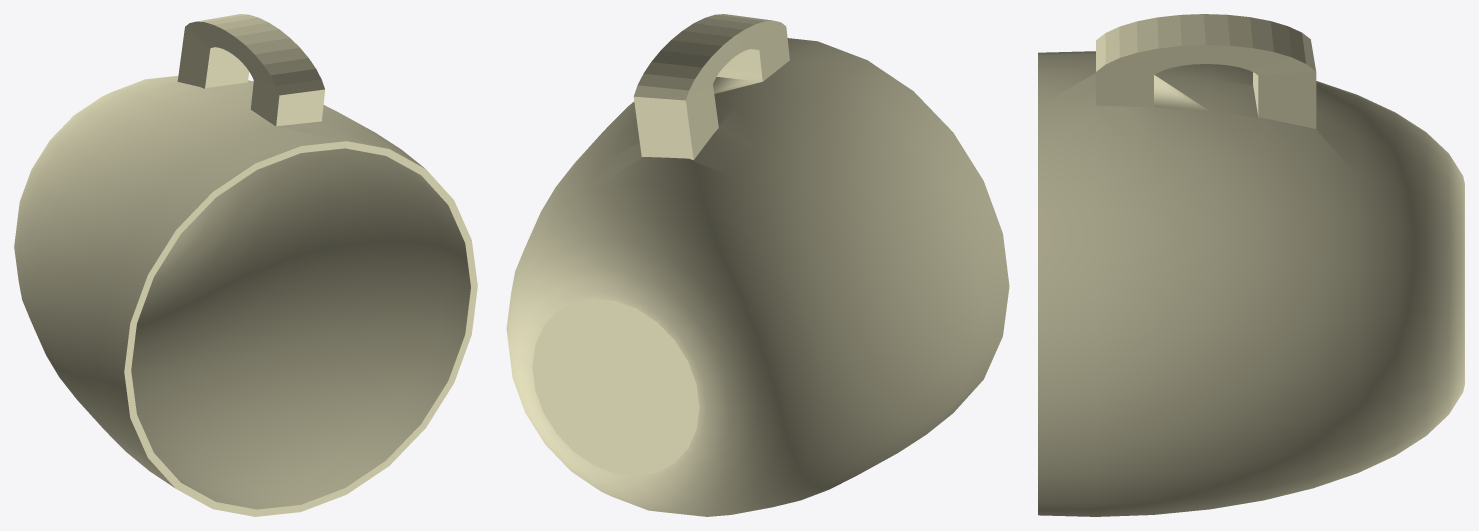
File: model_scale.obj
3 views of the same model, side by side, from view 1: azimuth 30°, elevation 25°; view 2: azimuth 150°, elevation 25°; view 3: azimuth 270°, elevation 25° (orthographic). The views are drawn at different scales.
Parts seen in each view (by area): view 1: mesh1_mesh1-geometry; view 2: mesh1_mesh1-geometry; view 3: mesh1_mesh1-geometry.
Boxes of the visible parts, left/top/right/bottom form: mesh1_mesh1-geometry: left=14, top=14, right=477, bottom=516; mesh1_mesh1-geometry: left=506, top=14, right=1009, bottom=516; mesh1_mesh1-geometry: left=1038, top=14, right=1464, bottom=516.
Bounding box in the file's own units: 0.0967 × 0.1096 × 0.0875.
